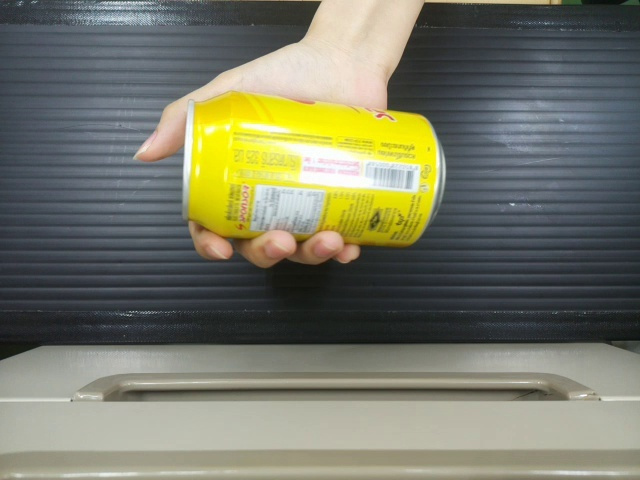can: (181, 90, 443, 234)
